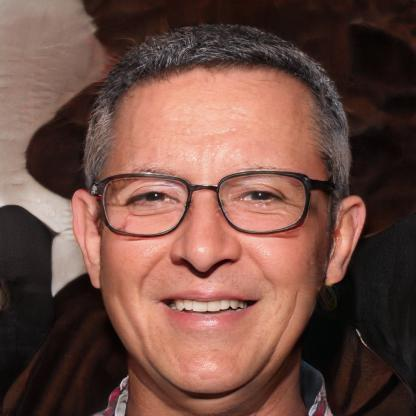glasses: (89, 168, 323, 239)
